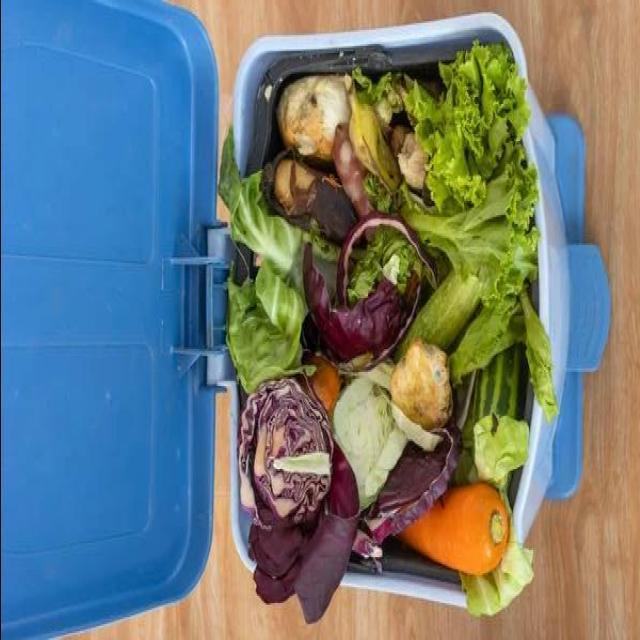Garbage: (225, 49, 544, 597)
